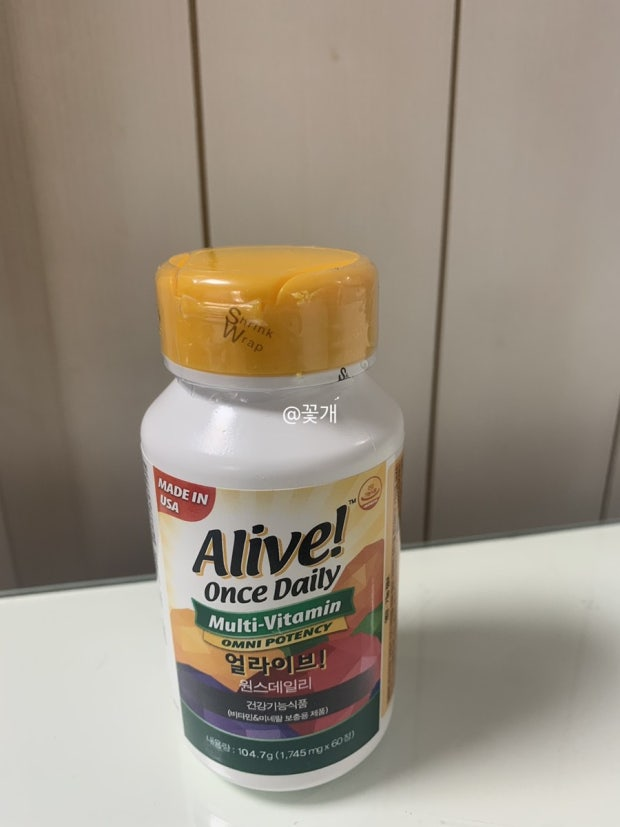supplement_label: (146, 452, 409, 784)
